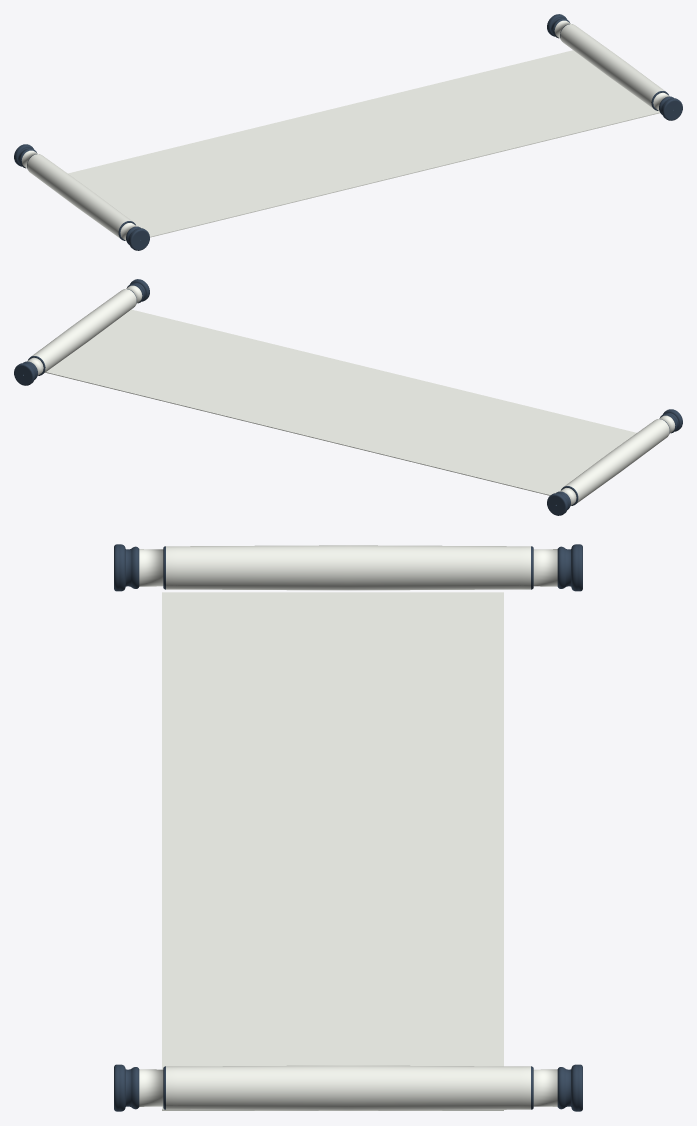
Rendered from QD-清茶桌摆件.fbx.
The picture shows the model from 3 angles, top to bottom: view 1: azimuth 30°, elevation 25°; view 2: azimuth 150°, elevation 25°; view 3: azimuth 270°, elevation 25°; orthographic projection. The views are drawn at different scales.
Visible parts, largest first — view 1: QD-清茶桌摆件; view 2: QD-清茶桌摆件; view 3: QD-清茶桌摆件.
Boxes of the visible parts, bbox=[...] form: QD-清茶桌摆件: bbox=[14, 14, 682, 250]; QD-清茶桌摆件: bbox=[14, 279, 682, 515]; QD-清茶桌摆件: bbox=[114, 544, 582, 1111].
Bounding box in the file's own units: 1.62 × 0.5945 × 0.0614.
